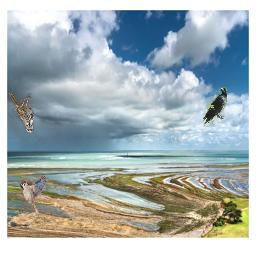Crow: (203, 87, 227, 127)
Sparrow: (20, 175, 46, 215), (9, 93, 34, 133)
